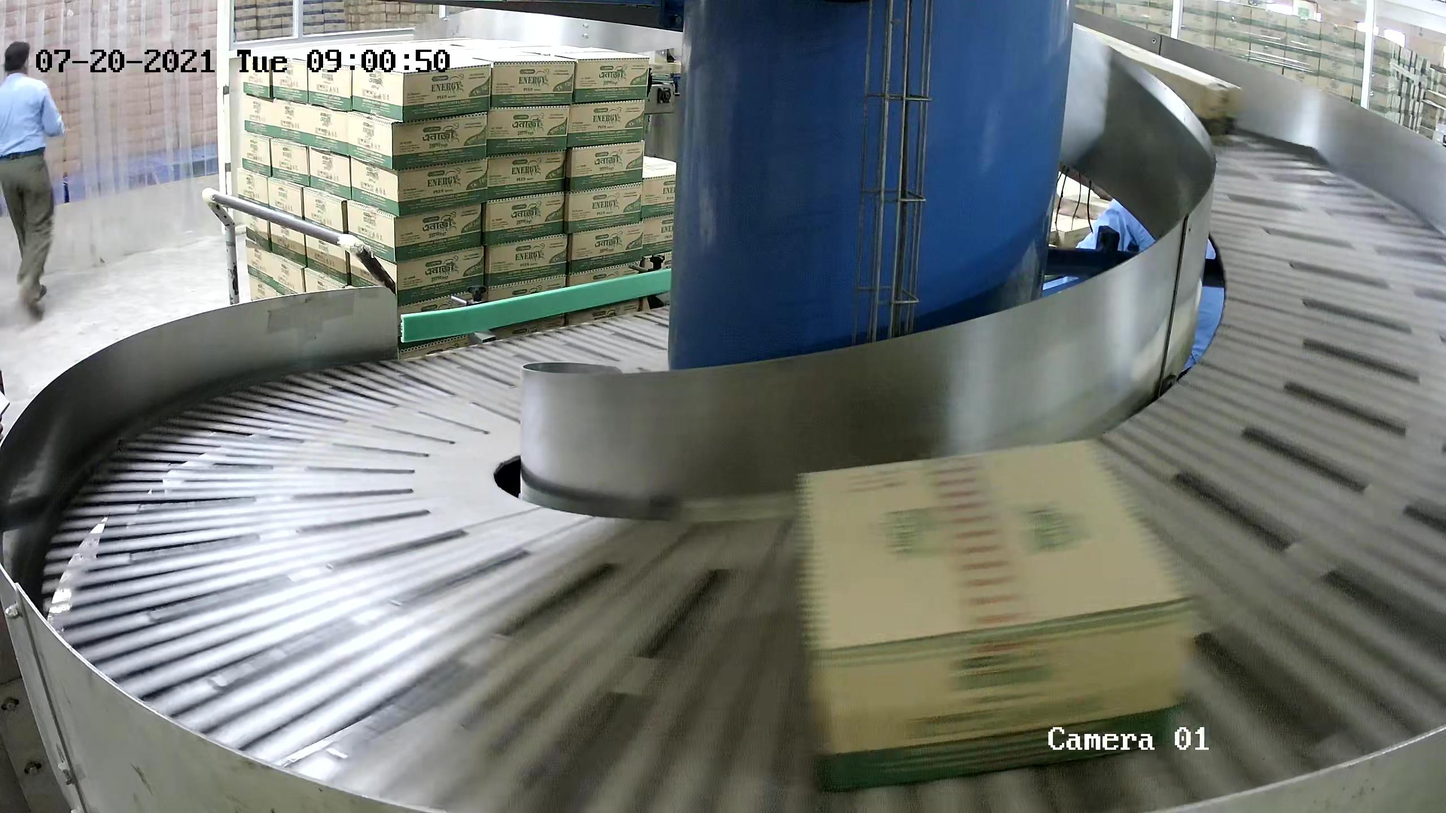Box: (789, 432, 1201, 790), (1051, 20, 1246, 150)
